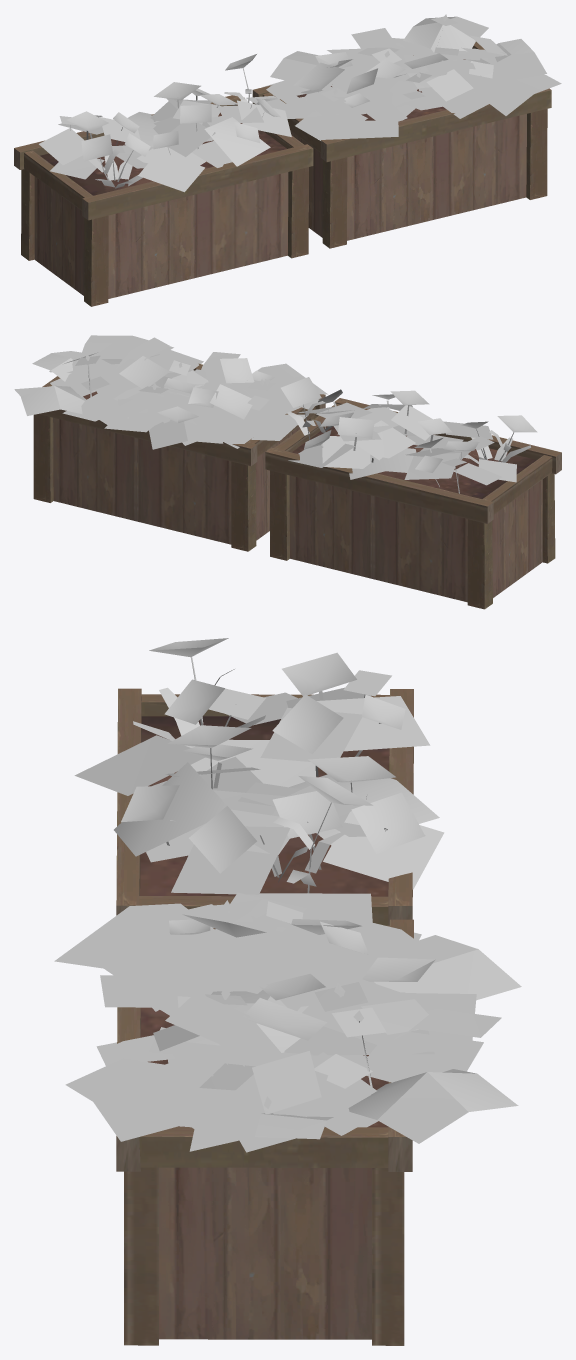
File: Homeworld_Exterior_Md_Flower_Flowerpot_01_Lod0.fbx
The picture shows the model from 3 angles, top to bottom: view 1: azimuth 30°, elevation 25°; view 2: azimuth 150°, elevation 25°; view 3: azimuth 270°, elevation 25°; orthographic projection. The views are drawn at different scales.
Visible parts, largest first — view 1: Homeworld_Exterior_Md_Flower_Flowerpot_Pot_01_Lod0, Homeworld_Exterior_Md_Flower_Flowerpot_Flower_01_Lod0; view 2: Homeworld_Exterior_Md_Flower_Flowerpot_Pot_01_Lod0, Homeworld_Exterior_Md_Flower_Flowerpot_Flower_01_Lod0; view 3: Homeworld_Exterior_Md_Flower_Flowerpot_Flower_01_Lod0, Homeworld_Exterior_Md_Flower_Flowerpot_Pot_01_Lod0.
Part boxes in pixels (<box>): Homeworld_Exterior_Md_Flower_Flowerpot_Pot_01_Lod0: <box>14,41,551,306</box>; Homeworld_Exterior_Md_Flower_Flowerpot_Flower_01_Lod0: <box>39,14,561,192</box>; Homeworld_Exterior_Md_Flower_Flowerpot_Pot_01_Lod0: <box>33,363,561,609</box>; Homeworld_Exterior_Md_Flower_Flowerpot_Flower_01_Lod0: <box>14,335,537,493</box>; Homeworld_Exterior_Md_Flower_Flowerpot_Flower_01_Lod0: <box>54,638,521,1152</box>; Homeworld_Exterior_Md_Flower_Flowerpot_Pot_01_Lod0: <box>116,688,413,1345</box>.
Bounding box in the file's own units: 2.75 × 0.8954 × 1.16.
